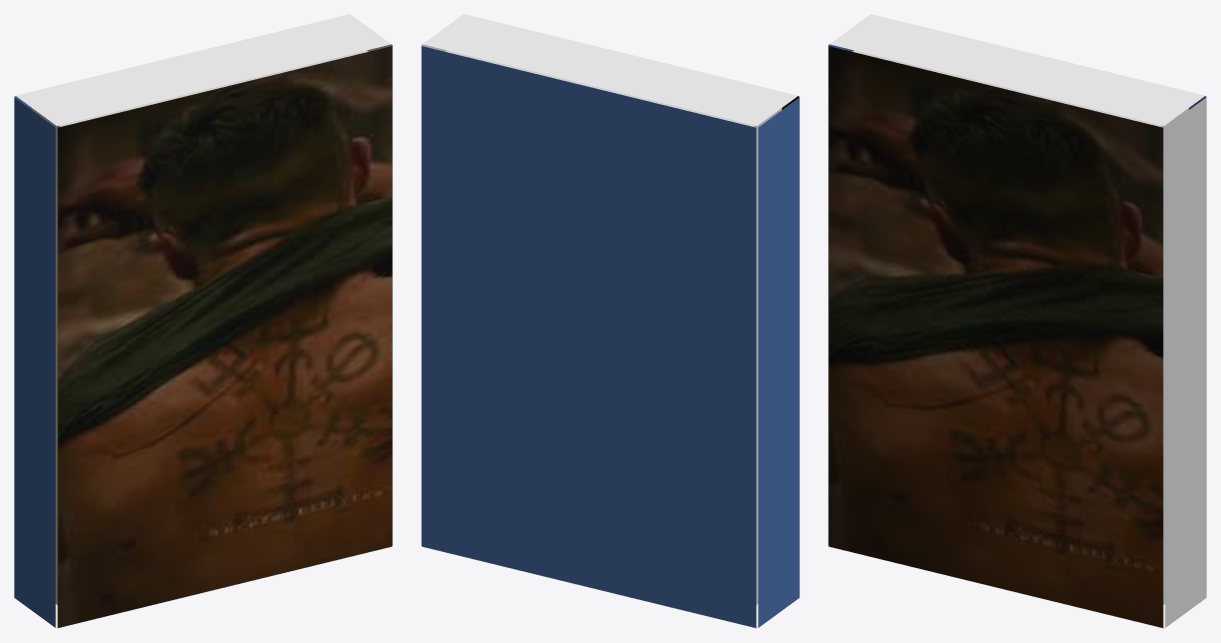
The model's file is TylerRake.glb.
3 renders of one model, left to right at view 1: azimuth 30°, elevation 25°; view 2: azimuth 150°, elevation 25°; view 3: azimuth 330°, elevation 25°, orthographic.
Parts seen in each view (by area): view 1: Livre_Couverture_Avant, Livre_Dos, Tranche_Haut, Livre_Pages, Tranche_Droite; view 2: Livre_Couverture_Arriere, Livre_Dos, Tranche_Haut, Livre_Pages, Tranche_Droite; view 3: Livre_Couverture_Avant, Tranche_Droite, Tranche_Haut, Livre_Pages, Livre_Dos.
Boxes of the visible parts, x1,y1,x2,y2 form: Livre_Couverture_Avant: (57,46,392,627); Livre_Dos: (14,97,55,627); Tranche_Haut: (16,14,390,125); Livre_Pages: (32,50,368,604); Tranche_Droite: (367,44,392,545); Livre_Couverture_Arriere: (421,46,756,627); Livre_Dos: (758,97,799,627); Tranche_Haut: (423,14,797,125); Livre_Pages: (445,50,781,604); Tranche_Droite: (421,44,446,545); Livre_Couverture_Avant: (828,46,1163,627); Tranche_Droite: (1165,97,1206,627); Tranche_Haut: (830,14,1204,125); Livre_Pages: (852,50,1188,604); Livre_Dos: (828,44,853,545).
Size of the model in its own units: 1.41 by 2.01 by 0.31.
7 materials, 1 textured.
